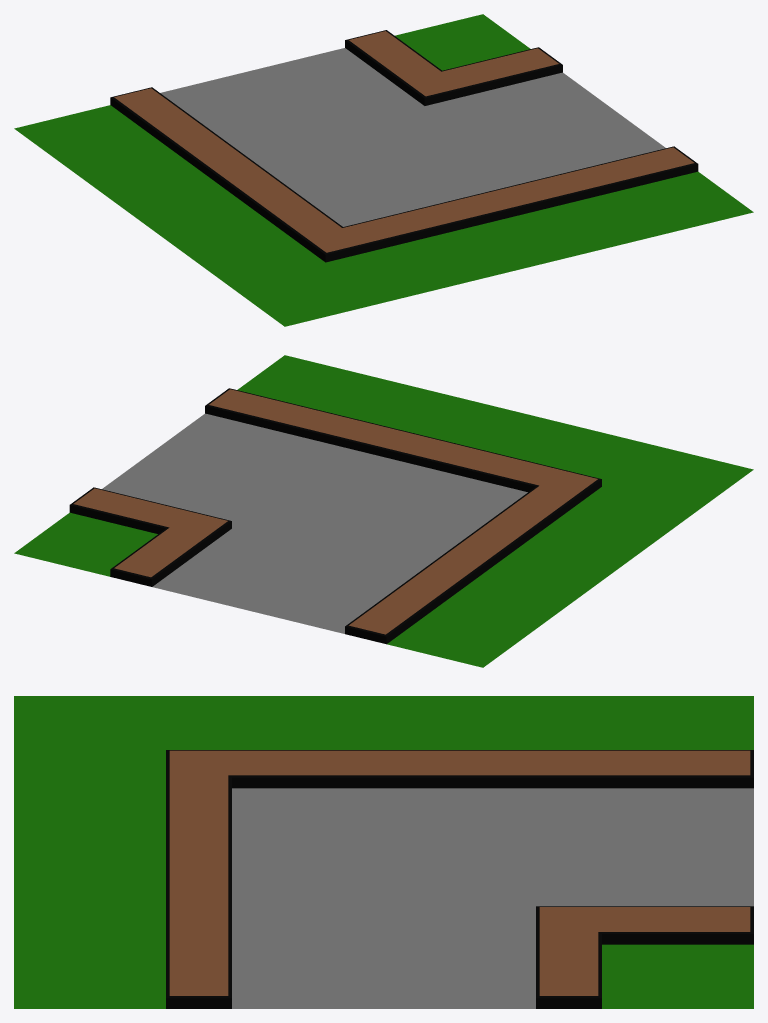
The model's file is Chão4.fbx.
3 renders of one model, top to bottom at view 1: azimuth 30°, elevation 25°; view 2: azimuth 150°, elevation 25°; view 3: azimuth 270°, elevation 25°, orthographic. The views are drawn at different scales.
Visible parts, largest first — view 1: Plane; view 2: Plane; view 3: Plane.
Boxes of the visible parts, x1,y1,x2,y2 form: Plane: [14, 14, 753, 326]; Plane: [14, 355, 753, 667]; Plane: [14, 696, 753, 1008].
Size of the model in its own units: 939 by 939 by 15.71.
